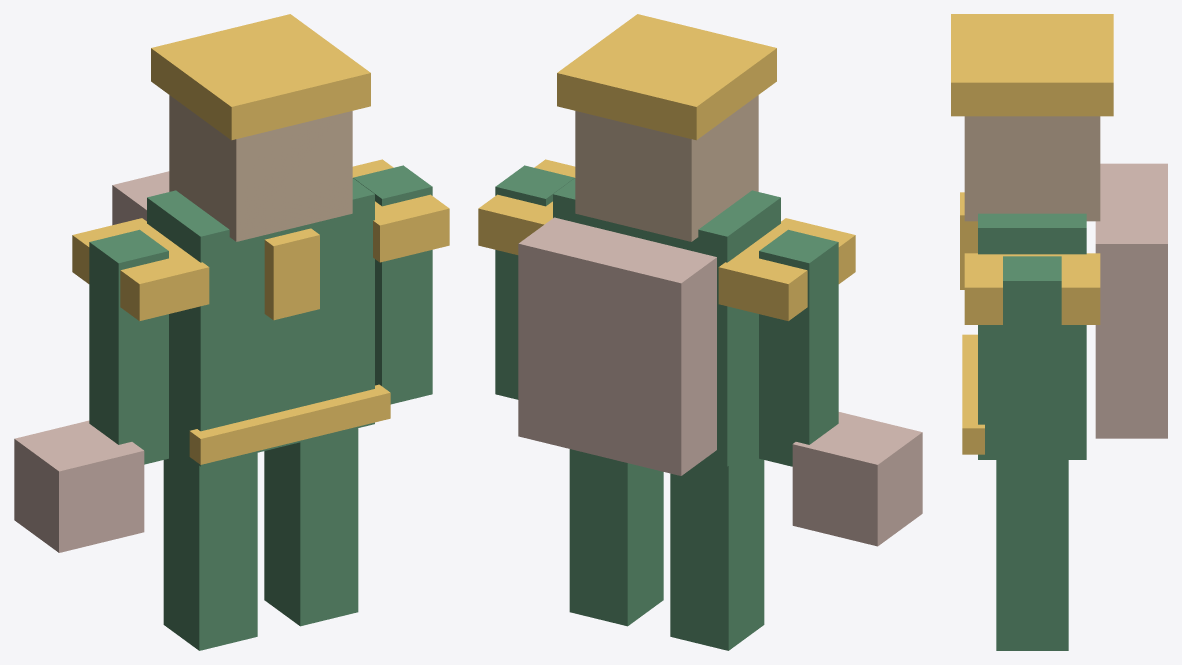
The model's file is 08_pax_glassroot_smith_at_adaptive.glb.
The picture shows the model from 3 angles, left to right: view 1: azimuth 30°, elevation 25°; view 2: azimuth 150°, elevation 25°; view 3: azimuth 270°, elevation 25°; orthographic projection.
Visible parts, largest first — view 1: Pax Glassroot, Smith at Adaptive; view 2: Pax Glassroot, Smith at Adaptive; view 3: Pax Glassroot, Smith at Adaptive.
Part boxes in pixels (x1,y1,x2,y2): Pax Glassroot, Smith at Adaptive: [14, 14, 449, 650]; Pax Glassroot, Smith at Adaptive: [478, 14, 922, 650]; Pax Glassroot, Smith at Adaptive: [951, 14, 1167, 650].
Size of the model in its own units: 1 by 1.39 by 0.4844.
